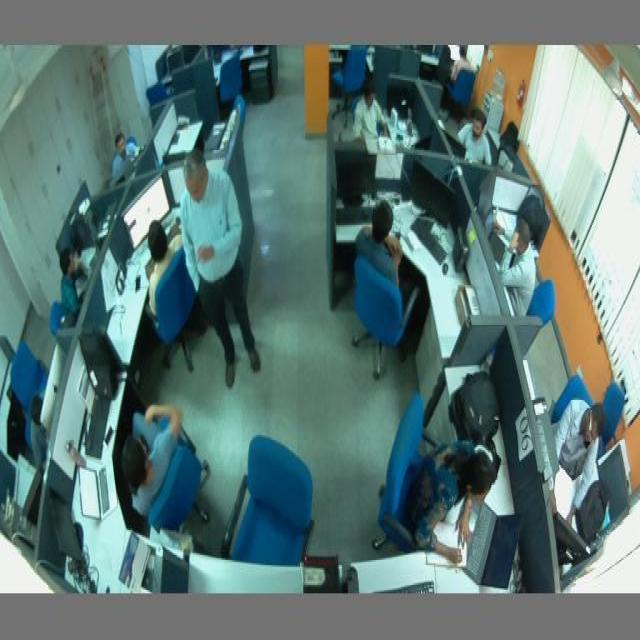chair: (374, 394, 450, 563), (223, 434, 313, 574), (350, 258, 426, 382), (144, 427, 214, 525), (150, 252, 202, 372), (8, 341, 58, 411), (327, 45, 371, 123), (553, 376, 599, 436), (216, 55, 250, 110), (526, 277, 556, 333), (448, 68, 478, 108), (50, 297, 76, 343)
keyboard: (413, 216, 450, 264), (373, 578, 434, 592), (334, 203, 377, 222)
laptop: (458, 493, 522, 590), (74, 462, 121, 521)
monitor: (409, 160, 468, 238), (121, 174, 175, 248), (552, 508, 592, 577), (49, 492, 81, 571), (338, 149, 378, 196), (476, 165, 498, 227)
person: (180, 152, 260, 392), (406, 440, 498, 567), (546, 398, 608, 527), (120, 400, 182, 513), (358, 200, 406, 292), (500, 218, 535, 318), (351, 82, 394, 148), (56, 245, 92, 318), (456, 112, 494, 162), (110, 127, 142, 178), (30, 385, 50, 462)
phone: (104, 427, 113, 445), (135, 271, 141, 294)
